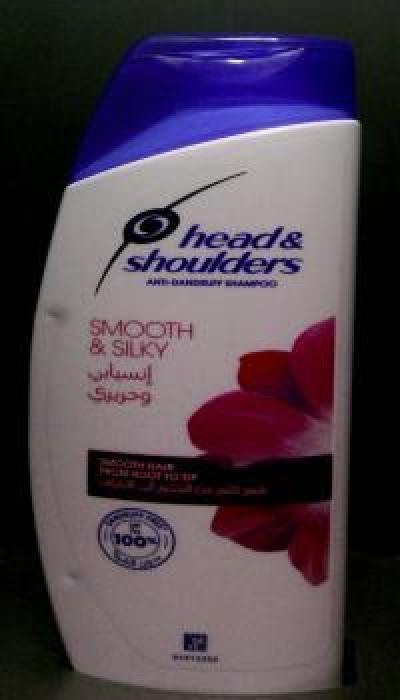dent_unacc: (48, 558, 102, 598), (37, 304, 89, 344)
